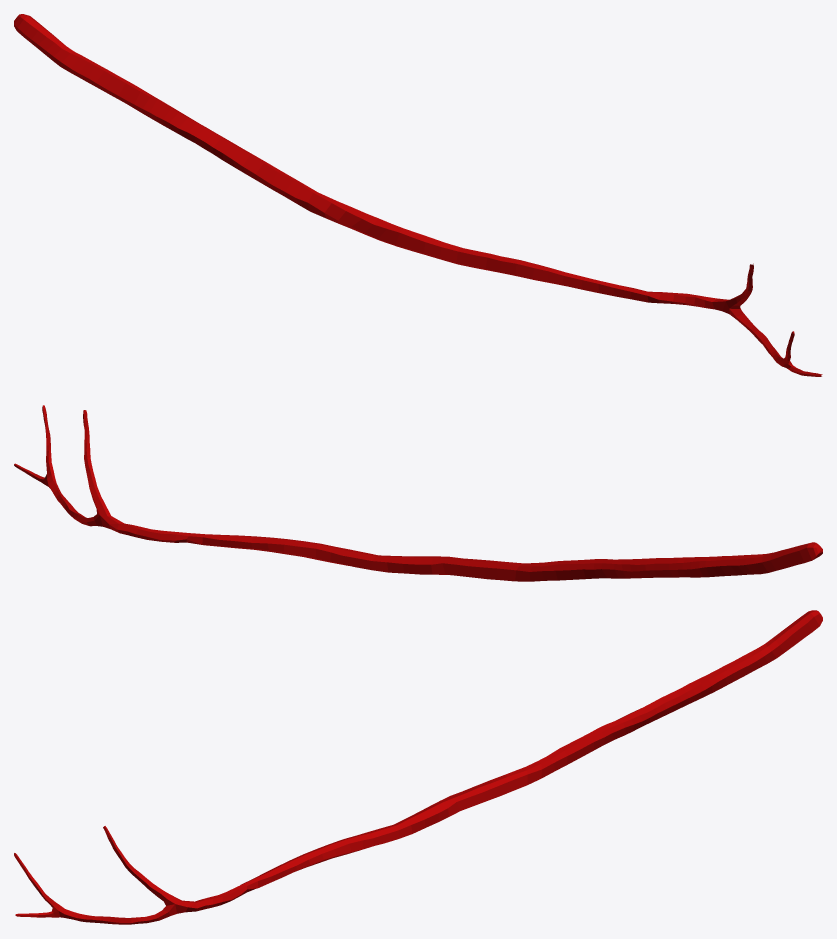
Rendered from Abducens_nerve_L.glb.
3 views of the same model, one above another, from view 1: azimuth 30°, elevation 25°; view 2: azimuth 210°, elevation 25°; view 3: azimuth 270°, elevation 25° (orthographic). The views are drawn at different scales.
Parts seen in each view (by area): view 1: Abducens_nerve_L.001; view 2: Abducens_nerve_L.001; view 3: Abducens_nerve_L.001.
Part boxes in pixels (left/top/right/bottom): Abducens_nerve_L.001: left=14, top=14, right=822, bottom=376; Abducens_nerve_L.001: left=14, top=405, right=822, bottom=581; Abducens_nerve_L.001: left=14, top=610, right=822, bottom=924.
Bounding box in the file's own units: 0.0513 × 0.0192 × 0.0989.
1 material, 1 textured.
